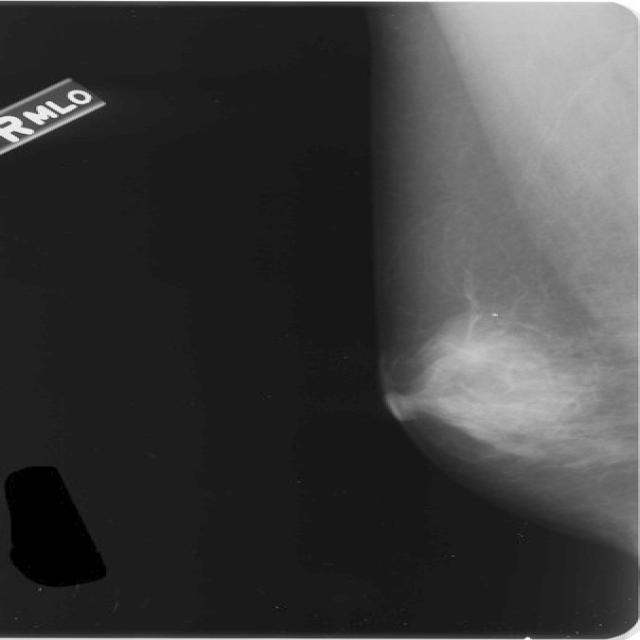tumour: (450, 340, 490, 363)
